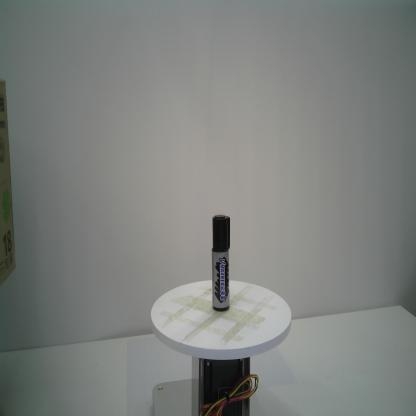Stationery: (211, 213, 231, 312)
